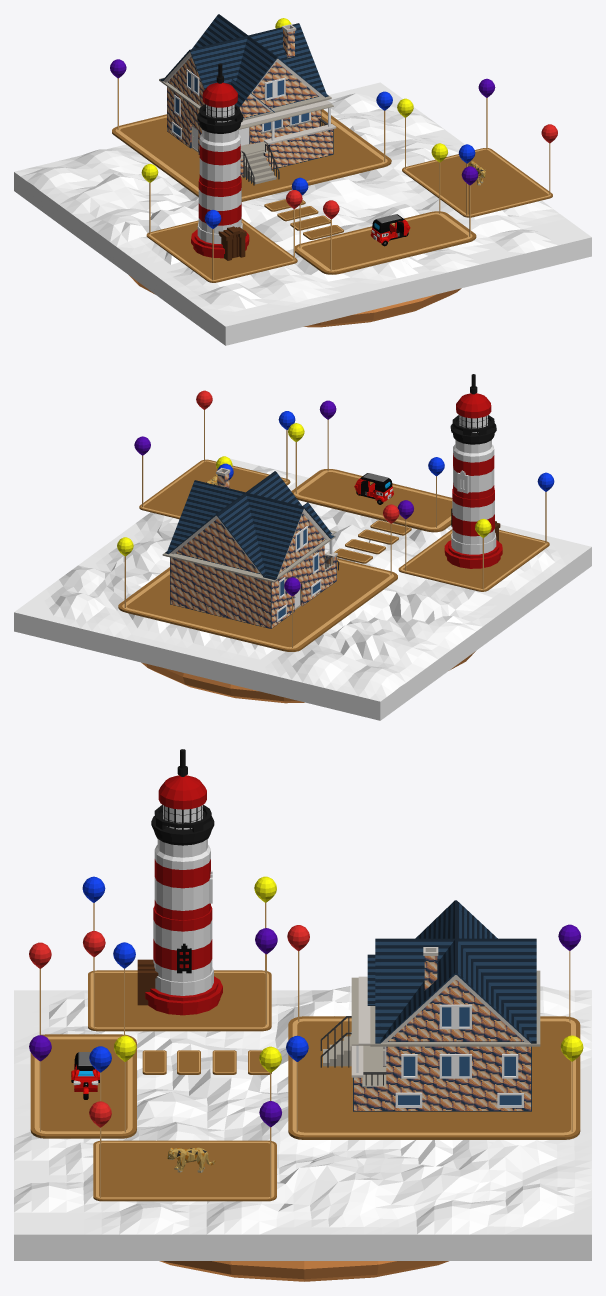
3 renders of one model, top to bottom at view 1: azimuth 30°, elevation 25°; view 2: azimuth 150°, elevation 25°; view 3: azimuth 270°, elevation 25°, orthographic. The views are drawn at different scales.
Parts seen in each view (by area): view 1: Cube.013, Cube.430, OBJRANDOM_LIGHTHOUSE, UNDERGROUND_PIZZA, VEHICLES_TUC_TUC; view 2: Cube.013, Cube.430, OBJRANDOM_LIGHTHOUSE, UNDERGROUND_PIZZA, VEHICLES_TUC_TUC; view 3: Cube.013, Cube.430, OBJRANDOM_LIGHTHOUSE, UNDERGROUND_PIZZA, VEHICLES_TUC_TUC, ANIMAL_JAGUAR.
Part boxes in pixels (x1,y1,x2,y2): Cube.013: (14,18,591,345); Cube.430: (159,14,336,185); OBJRANDOM_LIGHTHOUSE: (191,63,249,260); UNDERGROUND_PIZZA: (129,275,461,327); VEHICLES_TUC_TUC: (370,214,410,246); Cube.013: (14,390,591,720); Cube.430: (162,468,339,628); OBJRANDOM_LIGHTHOUSE: (444,374,502,568); UNDERGROUND_PIZZA: (141,651,475,703); VEHICLES_TUC_TUC: (354,473,393,504); Cube.013: (14,876,591,1260); Cube.430: (320,900,540,1111); OBJRANDOM_LIGHTHOUSE: (137,749,222,1015); UNDERGROUND_PIZZA: (159,1261,448,1281); VEHICLES_TUC_TUC: (71,1052,99,1099); ANIMAL_JAGUAR: (167,1147,215,1172).
Size of the model in its own units: 4000 by 2612 by 4000.
46 materials, 2 textured.
